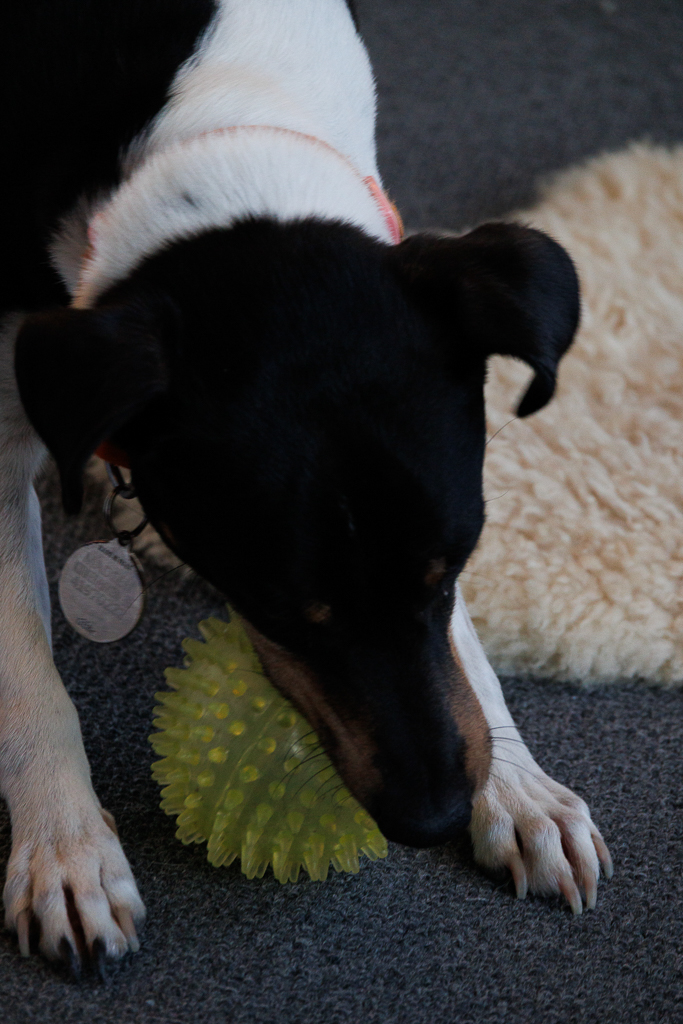Dog: (0, 0, 619, 992)
